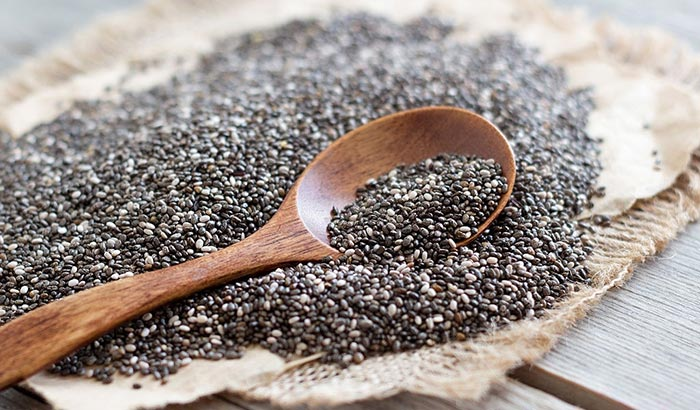seed: (59, 221, 595, 389), (1, 142, 289, 316), (328, 161, 502, 252), (495, 147, 598, 222)
